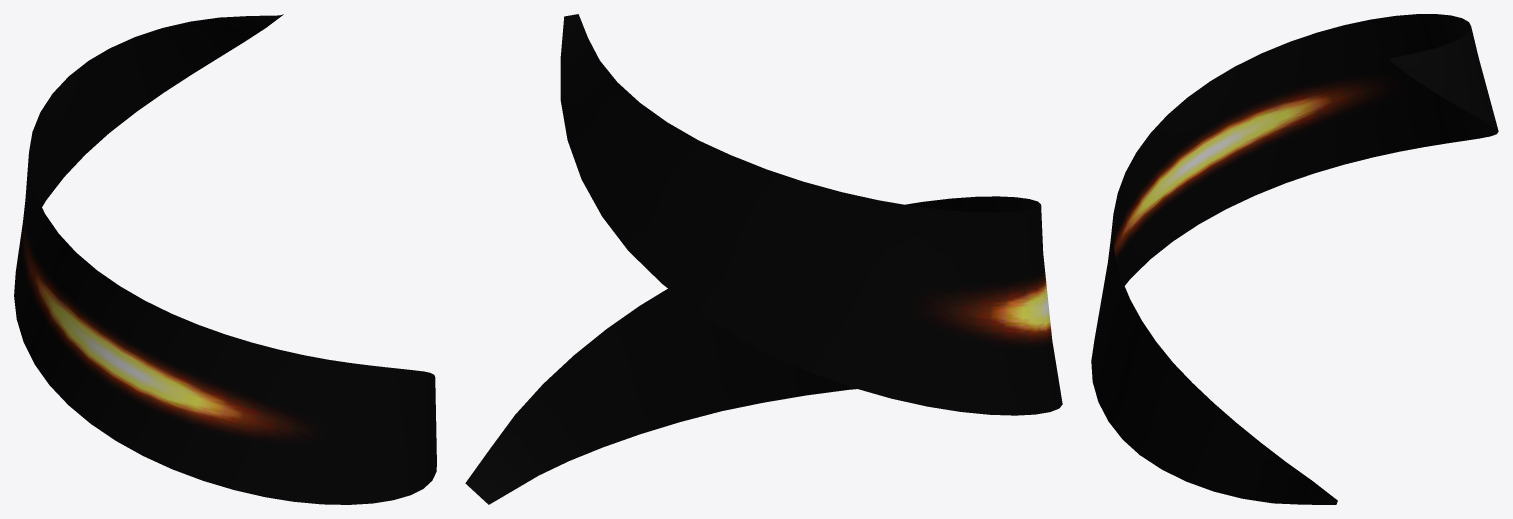
The model's file is 0051_HT_FX_MegaLieKongZuo_03.glb.
The picture shows the model from 3 angles, left to right: view 1: azimuth 30°, elevation 25°; view 2: azimuth 150°, elevation 25°; view 3: azimuth 270°, elevation 25°; orthographic projection. The views are drawn at different scales.
Bounding box in the file's own units: 2.2 × 2.16 × 1.98.
Materials: 1 (1 with a texture image).
